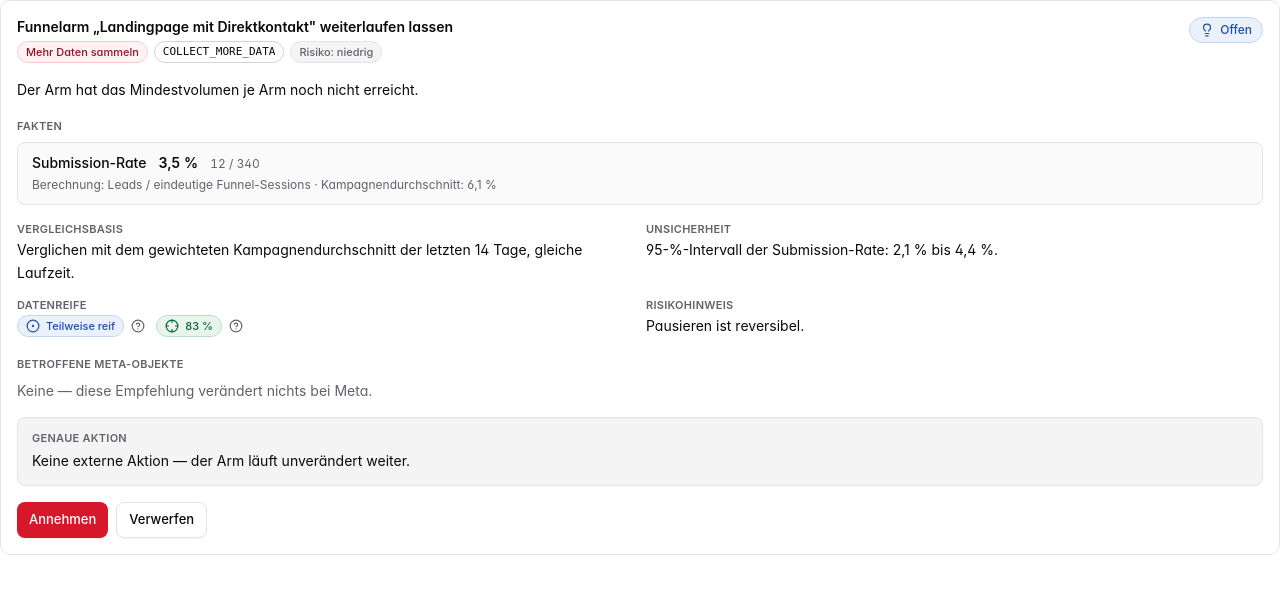
Test: a recommendation that changes nothing at Meta › can be accepted and can be dismissed, and says nothing was sent
Later steps or results of the test are not shown.
Click the button "Annehmen" at (63, 520), box [17, 502, 108, 538]
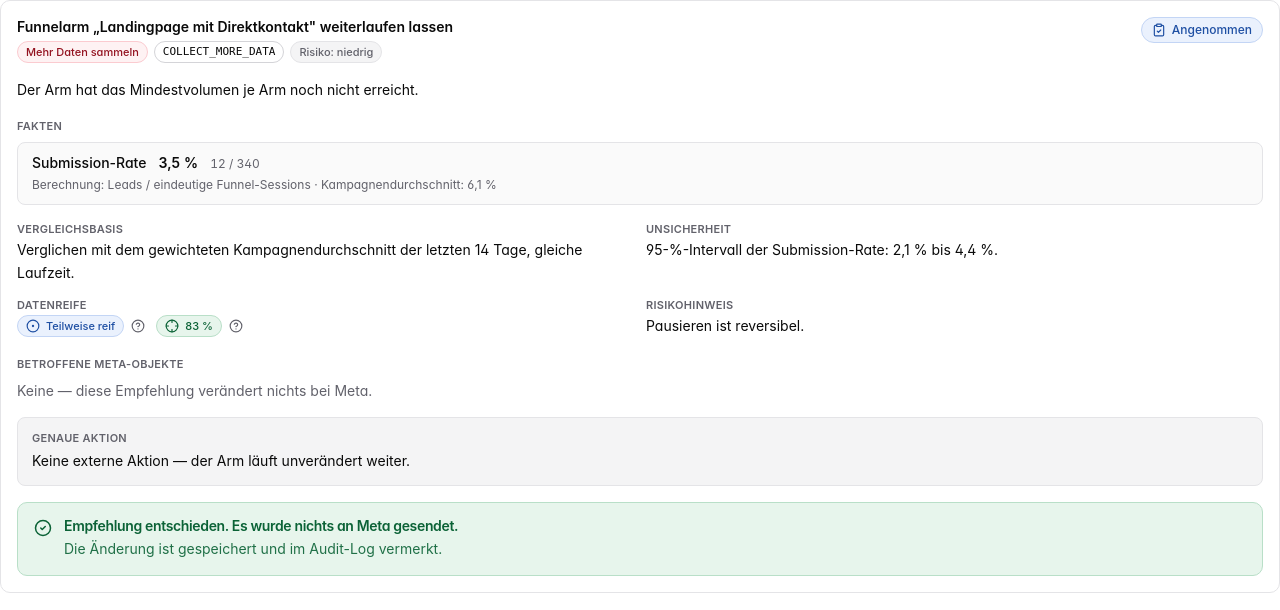
Expected: the text "Empfehlung entschieden. Es wurde nichts an Meta gesendet." is shown, [64, 517, 458, 534]
Expected: the button "Annehmen" is gone
